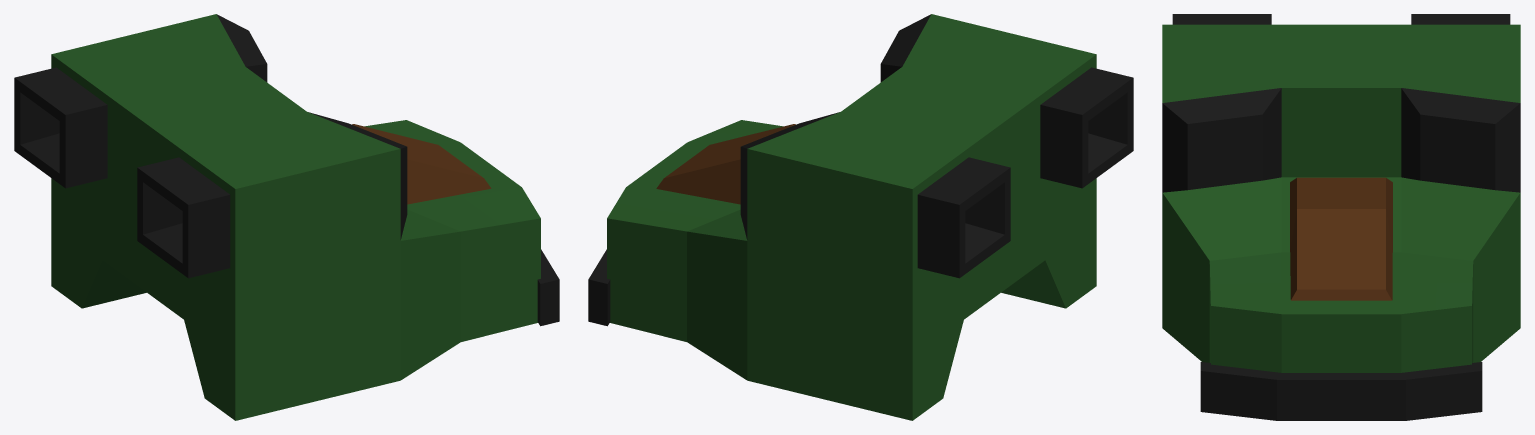
File: enemy.fbx
The picture shows the model from 3 angles, left to right: view 1: azimuth 30°, elevation 25°; view 2: azimuth 150°, elevation 25°; view 3: azimuth 270°, elevation 25°; orthographic projection. The views are drawn at different scales.
Parts seen in each view (by area): view 1: Cube, Cube.001, Cube.002; view 2: Cube, Cube.001, Cube.002; view 3: Cube, Cube.002, Cube.001.
Part boxes in pixels (x1,y1,x2,y2): Cube: (14, 14, 540, 420); Cube.001: (352, 124, 491, 204); Cube.002: (537, 249, 559, 326); Cube: (607, 14, 1133, 420); Cube.001: (656, 124, 795, 204); Cube.002: (588, 249, 610, 326); Cube: (1162, 14, 1520, 372); Cube.002: (1200, 362, 1482, 420); Cube.001: (1290, 177, 1392, 300).
Bounding box in the file's own units: 193 × 245 × 134.
